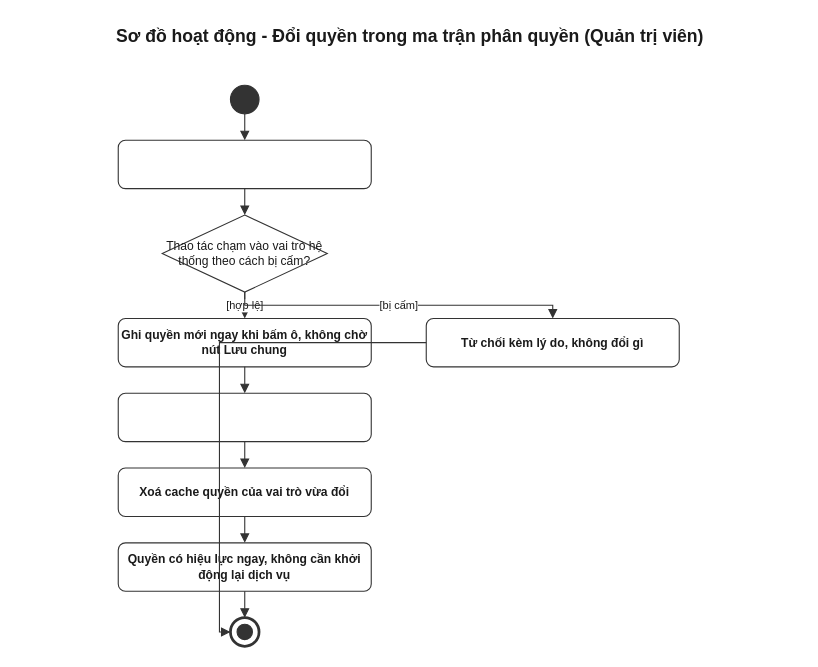
The diagram is 818 pixels wide and 667 high, and some of its shapes have lost their labels. Here are the shapes that lost their labels. From the top down, the centre of each, then its label:
At (x=244, y=164): "Bật tắt một ô Role x Function x Action".
At (x=244, y=417): "Ghi Nhật ký hệ thống trong cùng giao dịch, không có ngoại lệ".
